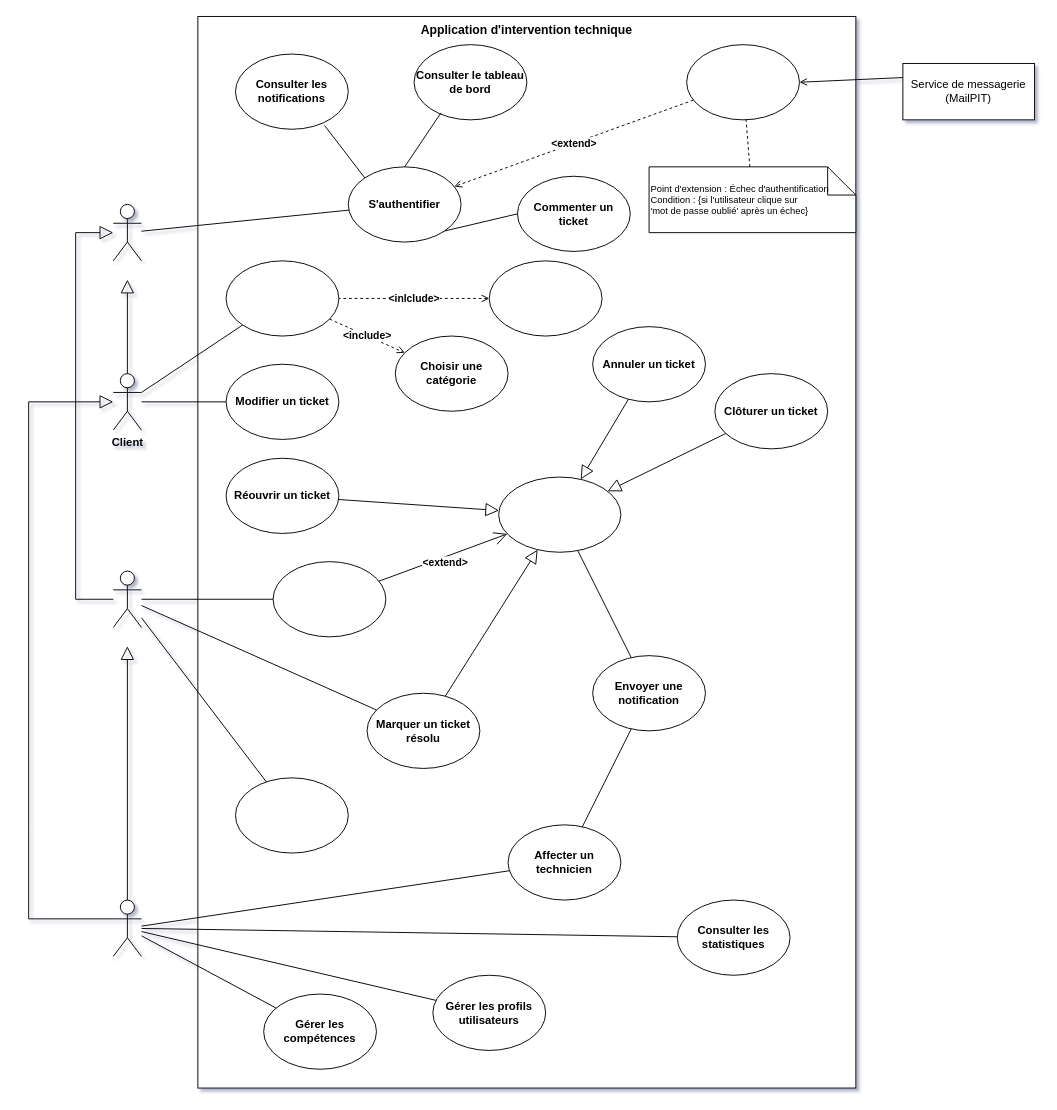
Image size: 1057x1110. Some labels were removed from this diagram. The shapes that lost their labels are listed below. From the top down, each one's box as (x1, y1, x2, y2) in pixels, then its label:
(686, 44, 799, 120): Réinitialiser le mot de passe
(112, 204, 141, 261): Utilisateur
(225, 260, 339, 336): Créer un ticket
(488, 260, 602, 336): Joindre une pièce jointe
(498, 476, 621, 552): Changer le statut d'un ticket
(112, 570, 141, 627): Technicien
(272, 561, 386, 637): Prendre en charge un ticket
(235, 777, 348, 853): Modifier sa disponibilité
(112, 899, 141, 956): Administrateur
